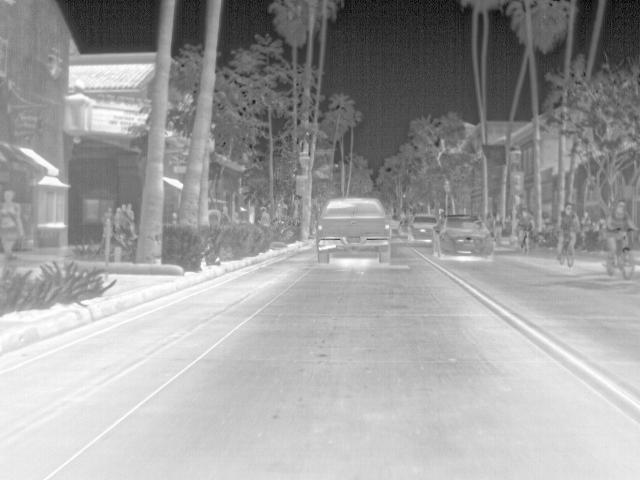car: (313, 196, 391, 265), (431, 214, 492, 260), (407, 215, 436, 242), (395, 219, 407, 238)
person: (605, 197, 637, 263), (552, 204, 581, 260), (2, 190, 24, 262), (517, 209, 539, 249), (125, 204, 140, 238), (493, 214, 506, 244), (113, 206, 125, 236), (101, 207, 114, 226)
